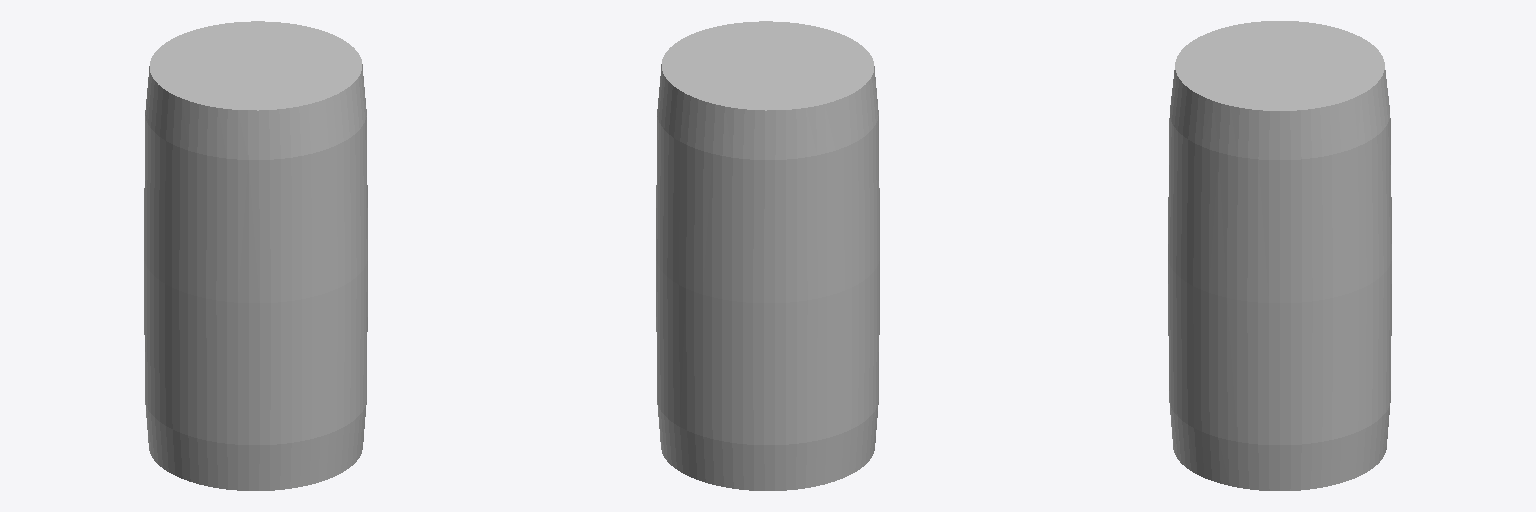
Rendered from lightfixture.obj.
3 views of the same model, side by side, from view 1: azimuth 30°, elevation 25°; view 2: azimuth 150°, elevation 25°; view 3: azimuth 270°, elevation 25° (orthographic).
Visible parts, largest first — view 1: Cylinder; view 2: Cylinder; view 3: Cylinder.
Part boxes in pixels (x1,y1,x2,y2): Cylinder: (144, 21, 367, 490); Cylinder: (656, 21, 879, 490); Cylinder: (1168, 21, 1391, 490).
Size of the model in its own units: 1.99 by 3.72 by 1.99.